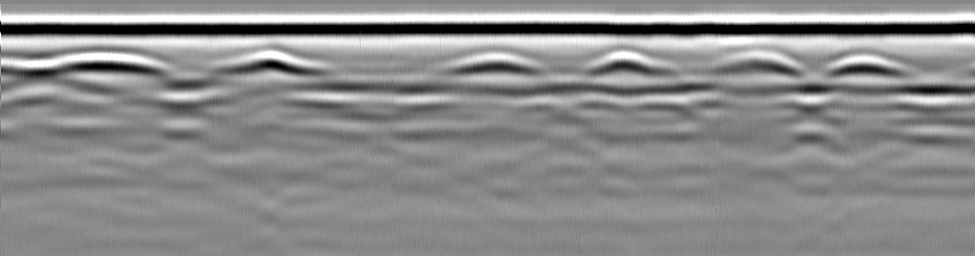steel: (53, 48, 171, 83), (226, 47, 325, 79), (717, 44, 806, 79), (827, 48, 913, 81), (456, 48, 541, 81), (591, 45, 674, 78)
